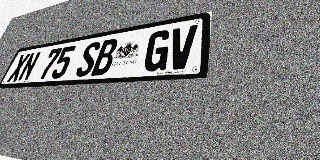5: (50, 45, 76, 79)
7: (37, 48, 63, 80)
B: (91, 38, 119, 76)
G: (142, 29, 172, 72)
N: (17, 51, 41, 81)
S: (74, 41, 102, 77)
V: (166, 24, 197, 70)
X: (6, 53, 30, 82)
